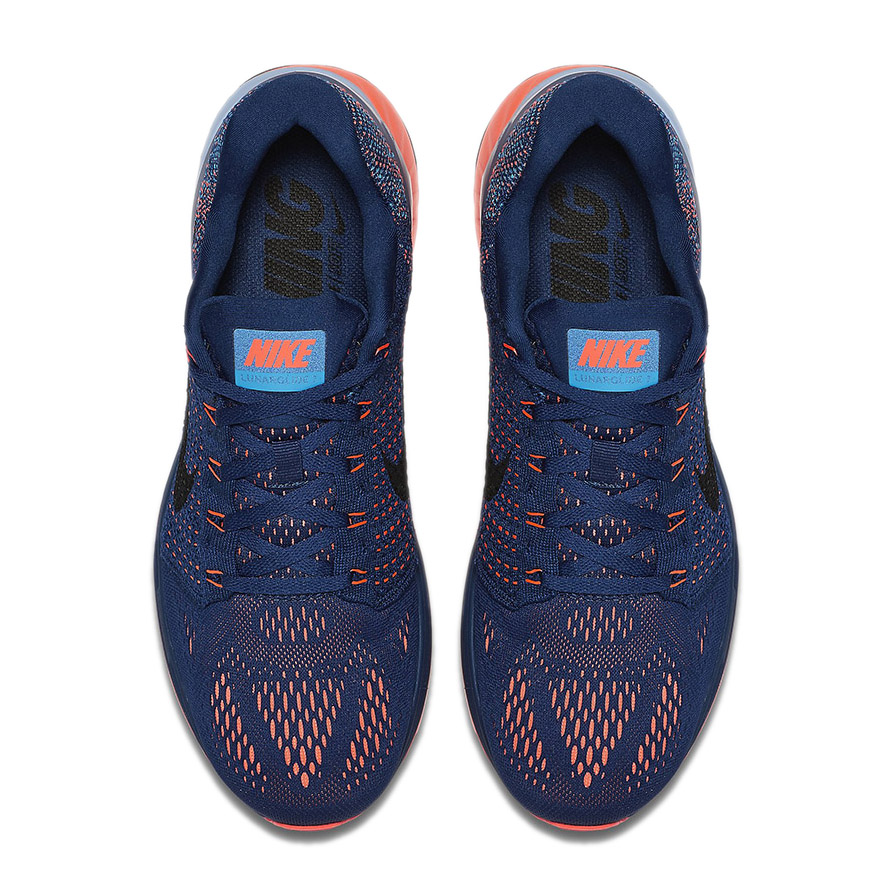Nike: (325, 187, 351, 245), (610, 196, 636, 249)
